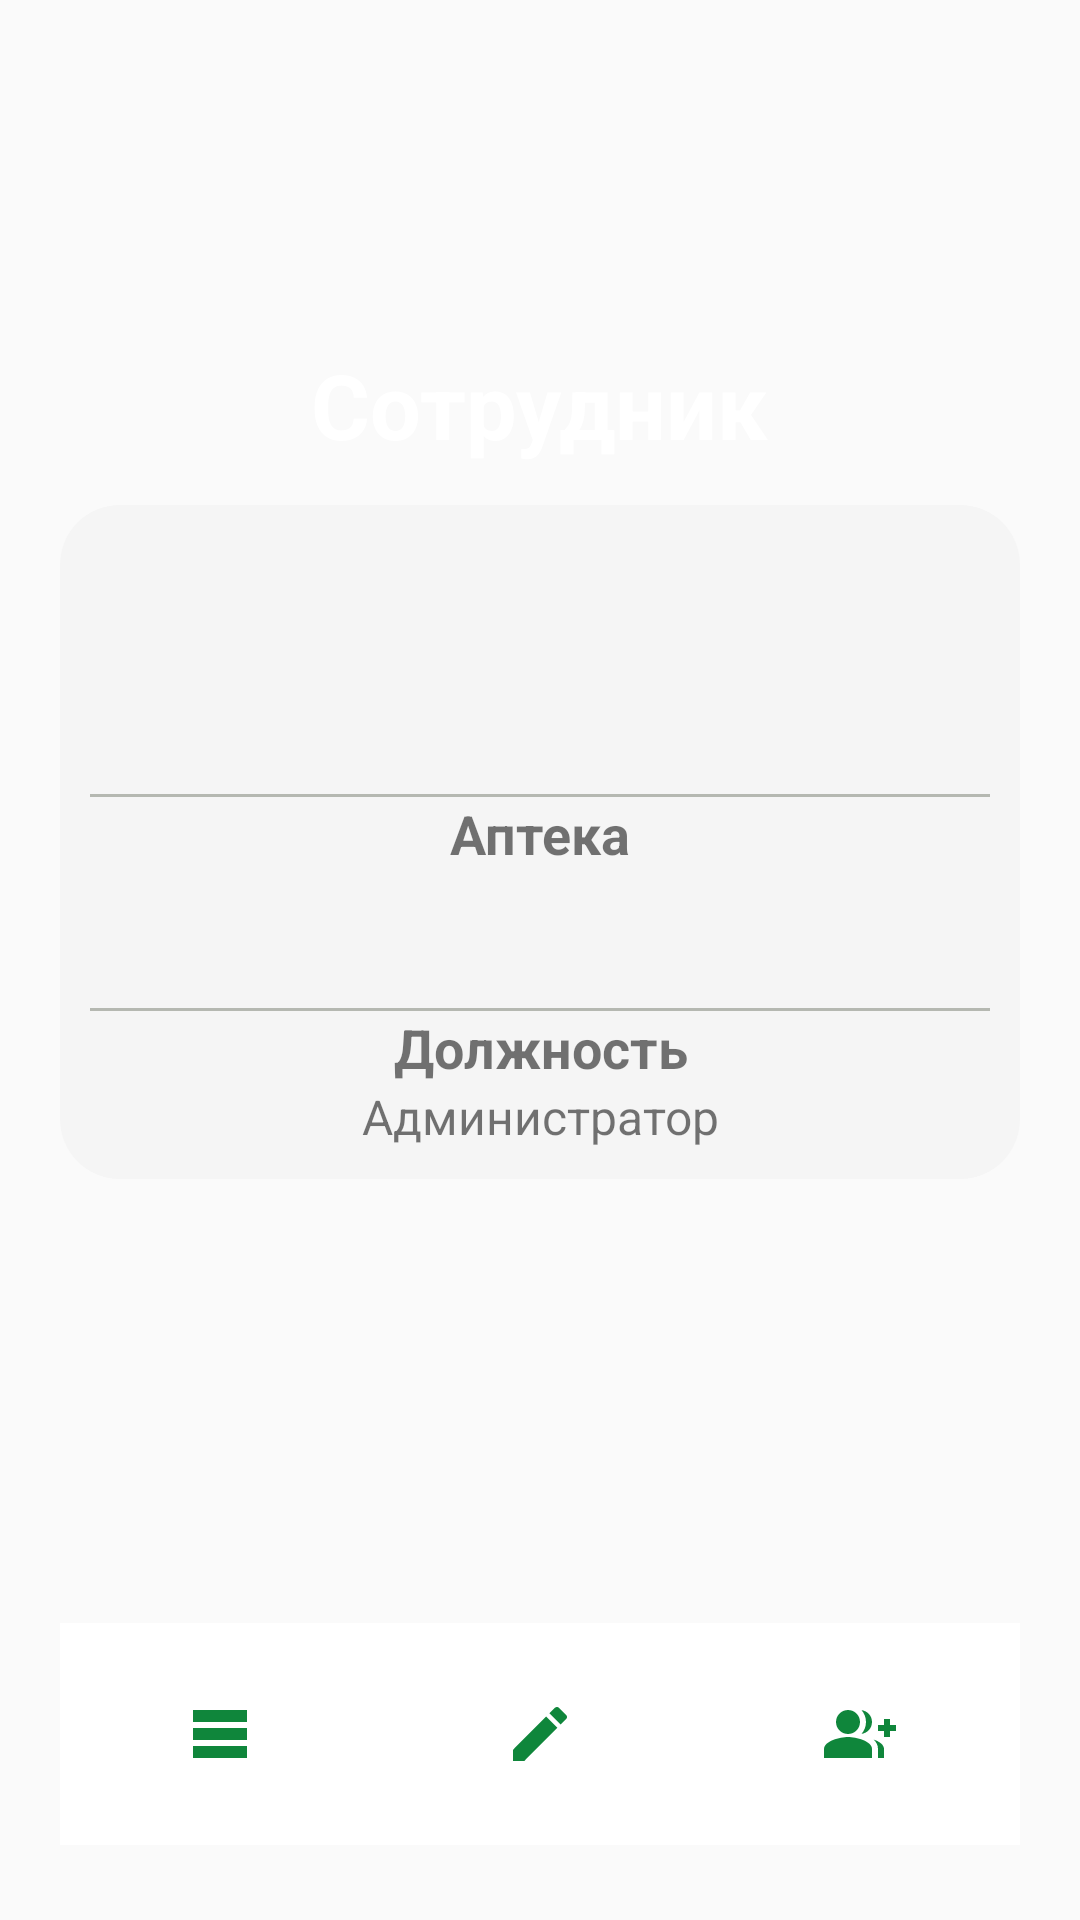

Icon bounding boxes for this 1080 x 1920 phone screenshot, format {"left": x1, "top": y1, "right": x2, "bottom": y2}:
create: {"left": 513, "top": 1707, "right": 567, "bottom": 1761}
group add: {"left": 824, "top": 1710, "right": 896, "bottom": 1758}
